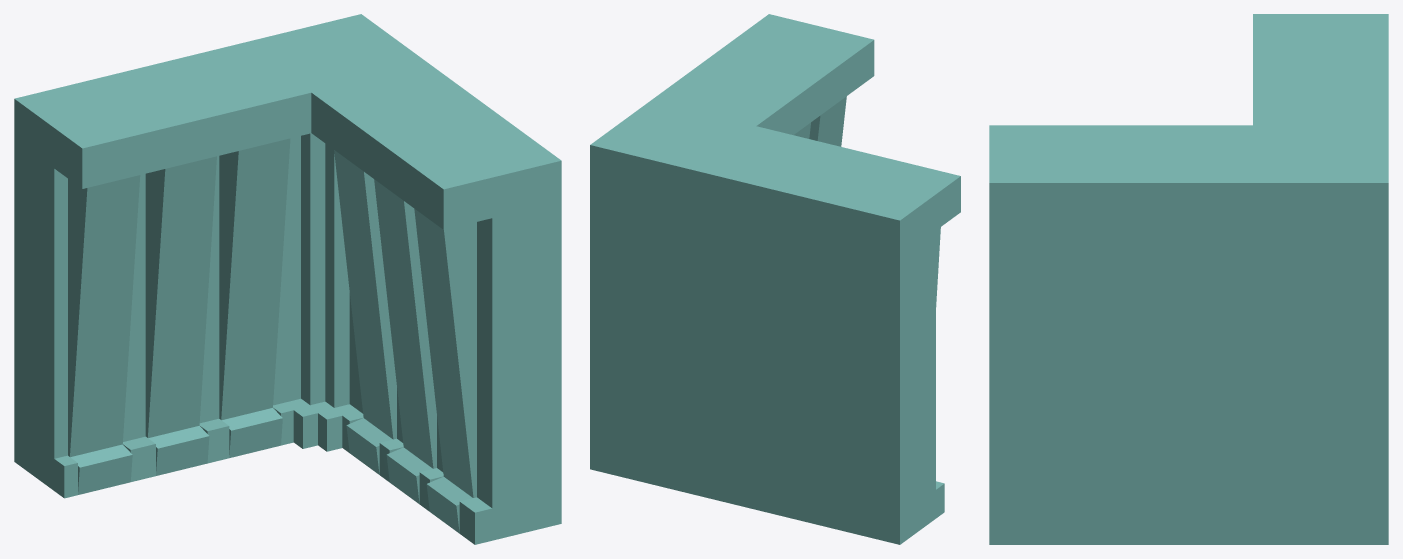
File: EspacioInicialEsquinaCierreExteriorNI.gltf
The picture shows the model from 3 angles, left to right: view 1: azimuth 30°, elevation 25°; view 2: azimuth 150°, elevation 25°; view 3: azimuth 270°, elevation 25°; orthographic projection. The views are drawn at different scales.
Parts seen in each view (by area): view 1: Pared esquina.13; view 2: Pared esquina.13; view 3: Pared esquina.13.
Boxes of the visible parts, <box> form: Pared esquina.13: <box>14,14,561,544</box>; Pared esquina.13: <box>590,14,960,544</box>; Pared esquina.13: <box>989,14,1388,544</box>.
Bounding box in the file's own units: 2 × 2 × 2.
